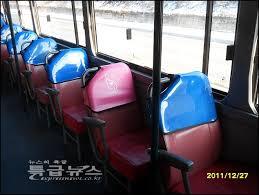seat: (83, 62, 152, 170)
